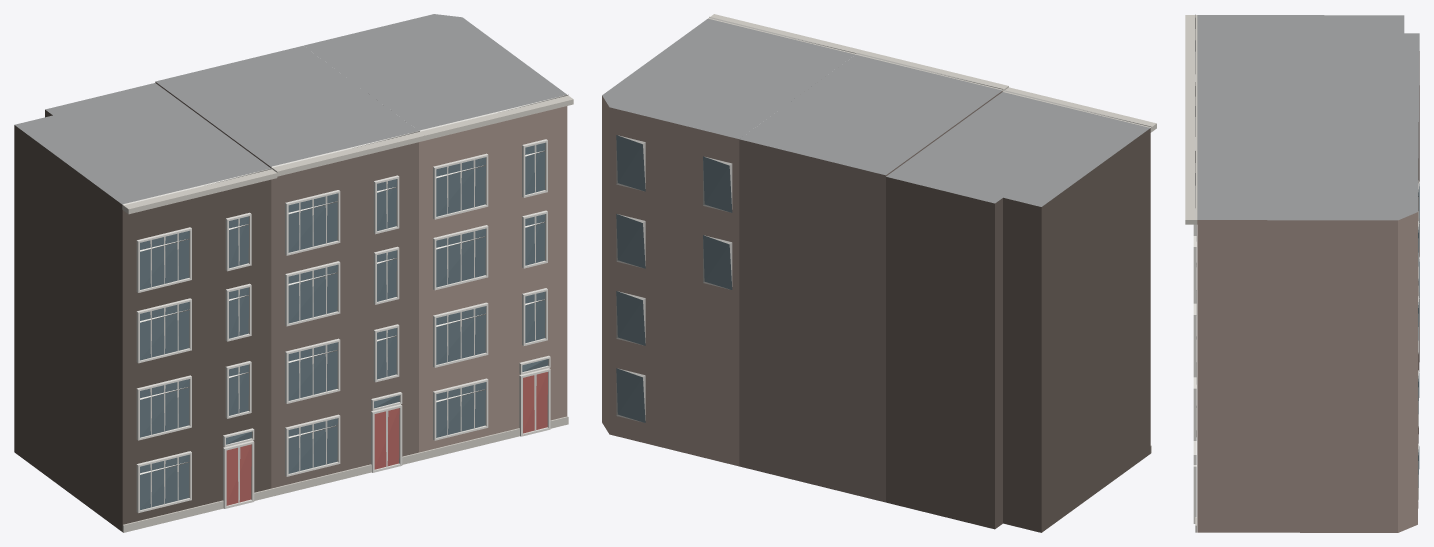
The model's file is chunk-face-retief-194-268-r2.lod2.glb.
The picture shows the model from 3 angles, left to right: view 1: azimuth 30°, elevation 25°; view 2: azimuth 150°, elevation 25°; view 3: azimuth 270°, elevation 25°; orthographic projection. The views are drawn at different scales.
Visible parts, largest first — view 1: lod2; view 2: lod2; view 3: lod2.
Part boxes in pixels (box(x1,y1,x2,y2)): lod2: box(14, 14, 573, 532); lod2: box(602, 14, 1156, 532); lod2: box(1185, 14, 1419, 532).
Size of the model in its own units: 18.55 by 13.12 by 8.89.
